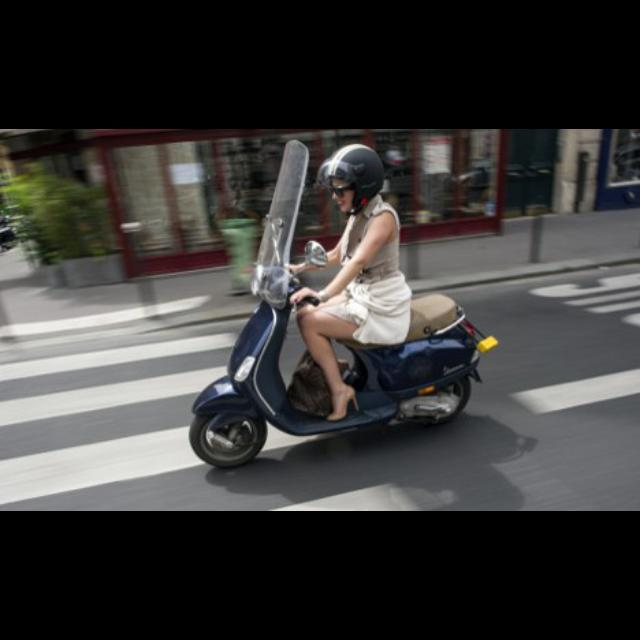With Helmet: (316, 138, 386, 216)
